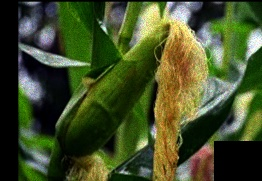corn_plant: (64, 14, 201, 154)
